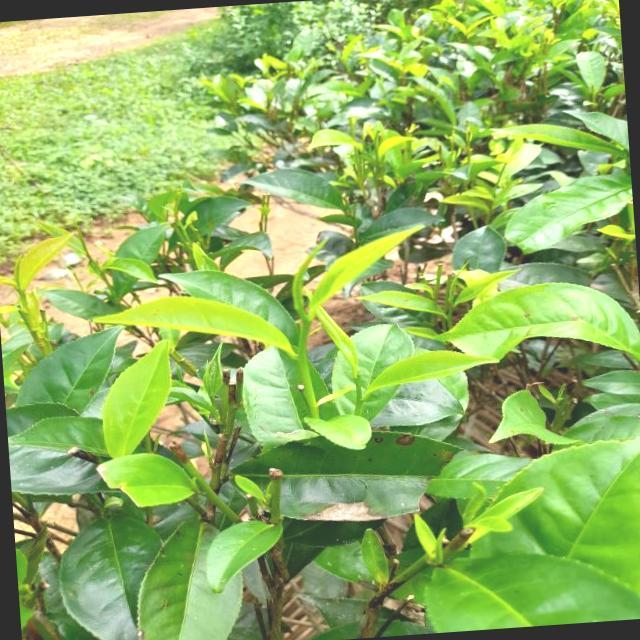Stem: (302, 321, 309, 331), (18, 290, 26, 298), (356, 399, 365, 405)
